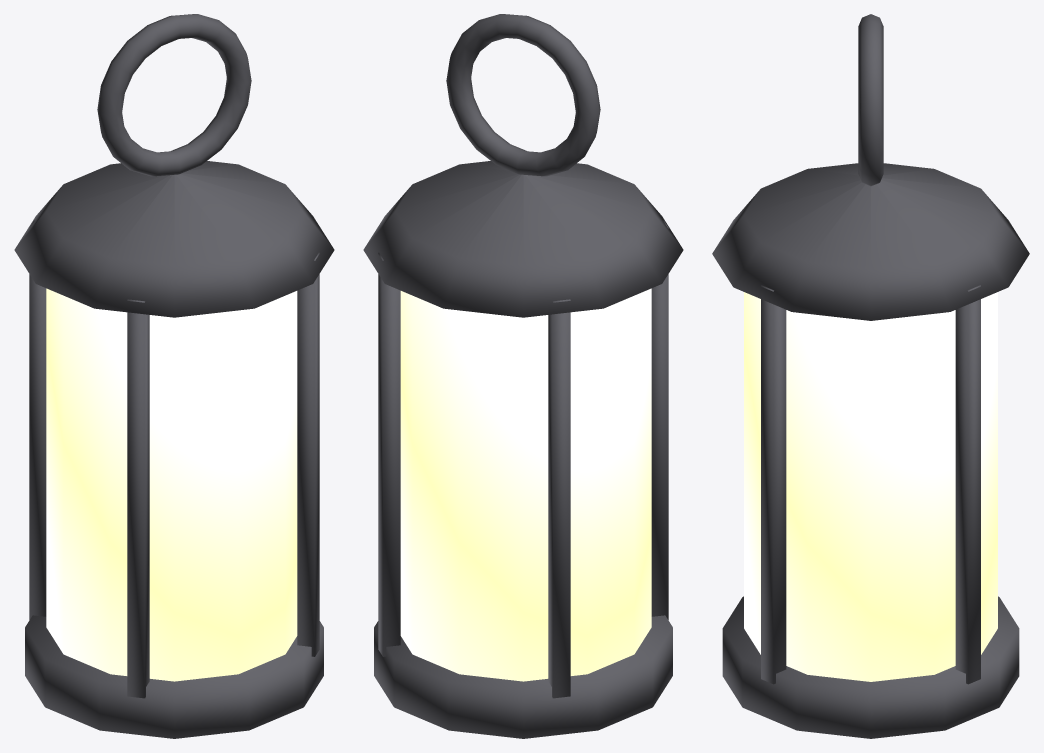
Rendered from laterne.glb.
The picture shows the model from 3 angles, left to right: view 1: azimuth 30°, elevation 25°; view 2: azimuth 150°, elevation 25°; view 3: azimuth 270°, elevation 25°; orthographic projection.
Parts seen in each view (by area): view 1: Torus; view 2: Torus; view 3: Torus.
Boxes of the visible parts, box(x1,y1,x2,y2) form: Torus: box(14, 14, 334, 738); Torus: box(363, 14, 683, 738); Torus: box(712, 14, 1029, 738).
Bounding box in the file's own units: 0.15 × 0.341 × 0.15.
